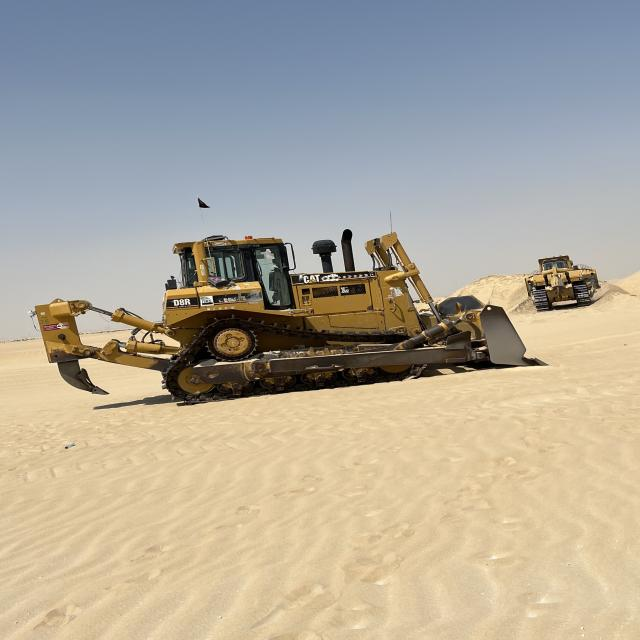buldozerpayloadergrader: (32, 222, 528, 406), (524, 252, 600, 314)
